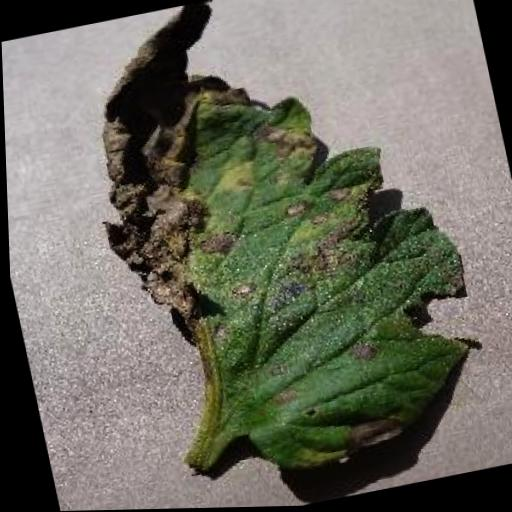Early Blight: (59, 0, 497, 504)
